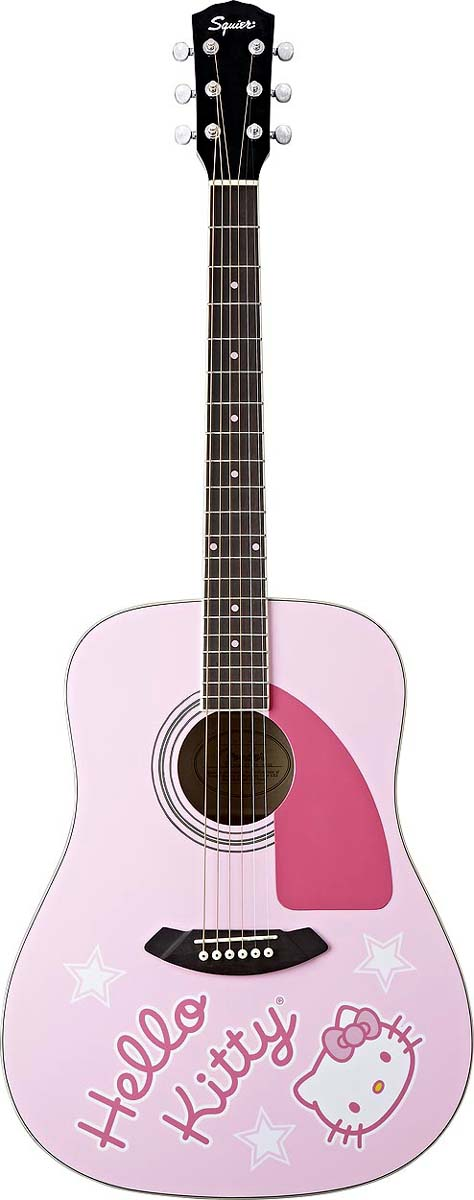guitar: (1, 1, 474, 1200)
